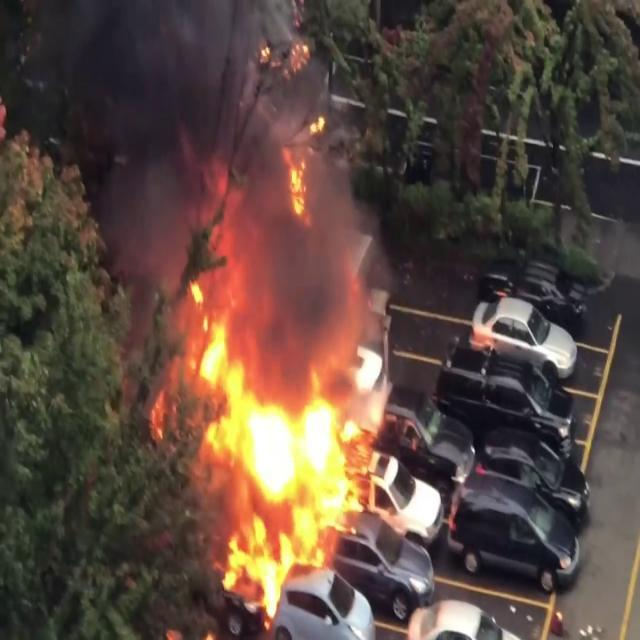Fire: (167, 258, 406, 614)
Smoke: (65, 0, 391, 359)
